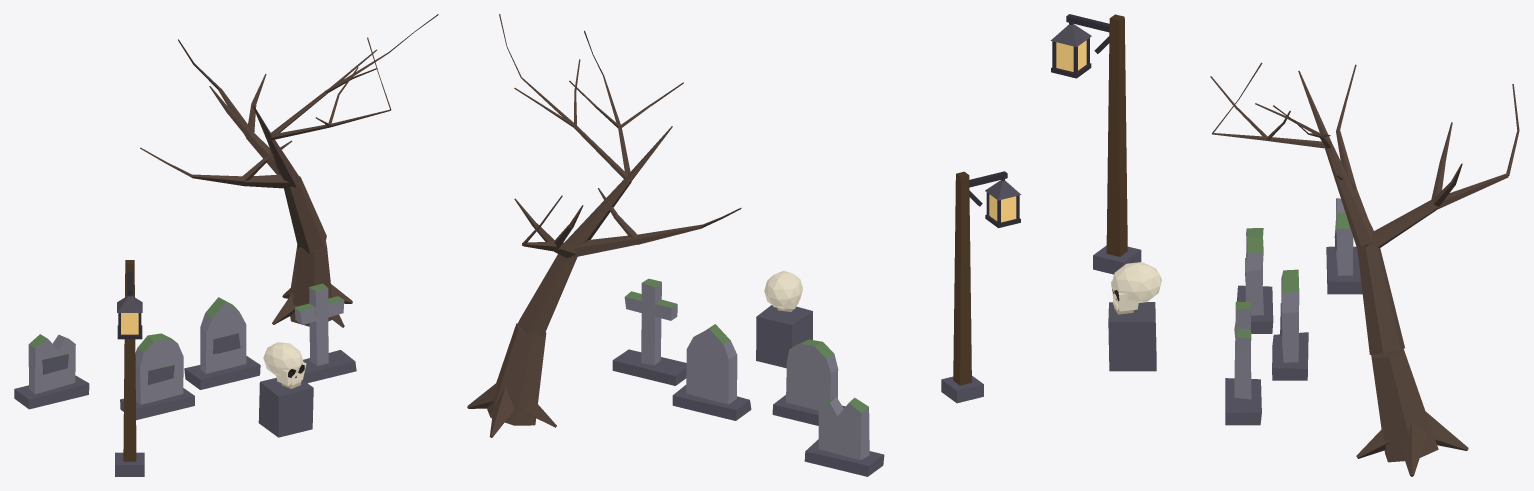
Rendered from sample_scene.glb.
3 renders of one model, left to right at view 1: azimuth 30°, elevation 25°; view 2: azimuth 150°, elevation 25°; view 3: azimuth 270°, elevation 25°, orthographic. The views are drawn at different scales.
Parts seen in each view (by area): view 1: Tree, Grave_Gothic, Grave_Round, Grave_Broken, Lantern, Grave_Cross, Pedestal, Skull; view 2: Tree, Lantern, Grave_Gothic, Grave_Broken, Grave_Cross, Grave_Round, Pedestal, Skull; view 3: Tree, Lantern, Pedestal, Grave_Cross, Grave_Gothic, Grave_Round, Grave_Broken, Skull.
Boxes of the visible parts, x1=… form: Tree: x1=140, y1=14, x2=438, y2=327; Grave_Gothic: x1=184, y1=297, x2=260, y2=389; Grave_Round: x1=120, y1=333, x2=194, y2=420; Grave_Broken: x1=14, y1=334, x2=89, y2=409; Lantern: x1=115, y1=260, x2=144, y2=476; Grave_Cross: x1=295, y1=283, x2=356, y2=383; Pedestal: x1=258, y1=378, x2=313, y2=437; Skull: x1=263, y1=342, x2=306, y2=388; Tree: x1=467, y1=14, x2=741, y2=437; Lantern: x1=941, y1=171, x2=1021, y2=403; Grave_Gothic: x1=672, y1=324, x2=751, y2=420; Grave_Broken: x1=804, y1=396, x2=884, y2=476; Grave_Cross: x1=612, y1=278, x2=686, y2=385; Grave_Round: x1=772, y1=339, x2=845, y2=425; Pedestal: x1=756, y1=305, x2=812, y2=368; Skull: x1=764, y1=270, x2=802, y2=311; Tree: x1=1210, y1=62, x2=1519, y2=476; Lantern: x1=1050, y1=14, x2=1141, y2=274; Pedestal: x1=1108, y1=302, x2=1156, y2=371; Grave_Cross: x1=1225, y1=301, x2=1261, y2=425; Grave_Gothic: x1=1272, y1=269, x2=1308, y2=380; Grave_Round: x1=1237, y1=228, x2=1273, y2=333; Grave_Broken: x1=1326, y1=198, x2=1362, y2=294; Skull: x1=1111, y1=262, x2=1161, y2=314.
Size of the model in its own units: 14.35 by 11.05 by 11.94.
1 material, 1 textured.
